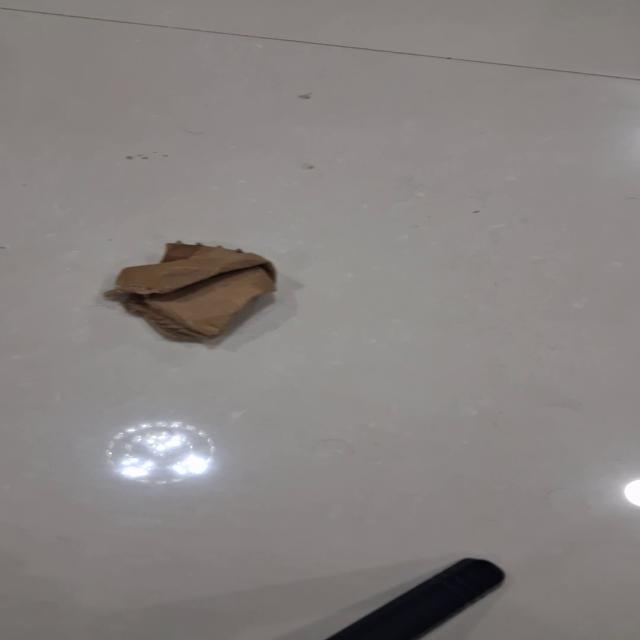paper: (104, 240, 278, 343)
